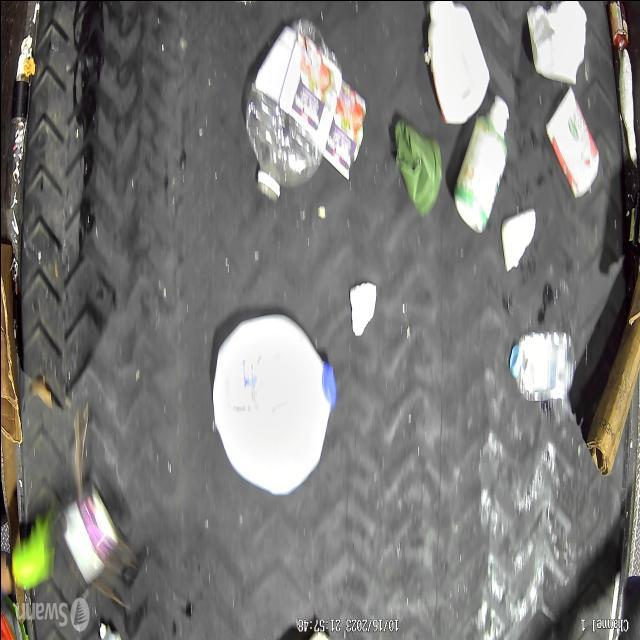milk_jug: (210, 313, 338, 496)
plastic_bottle: (242, 14, 342, 204), (507, 328, 577, 398)
